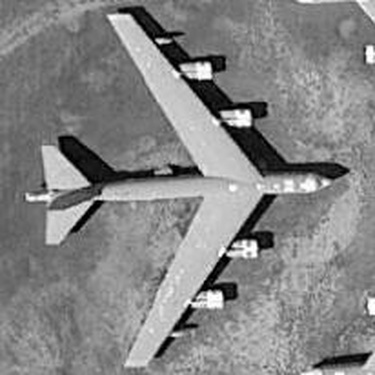airplane: (17, 14, 334, 369), (285, 344, 369, 369)
